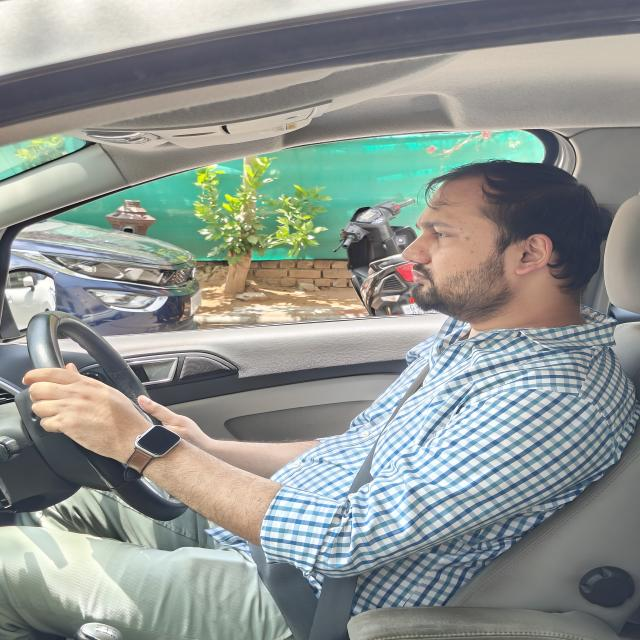seatbelt: (243, 315, 490, 638)
